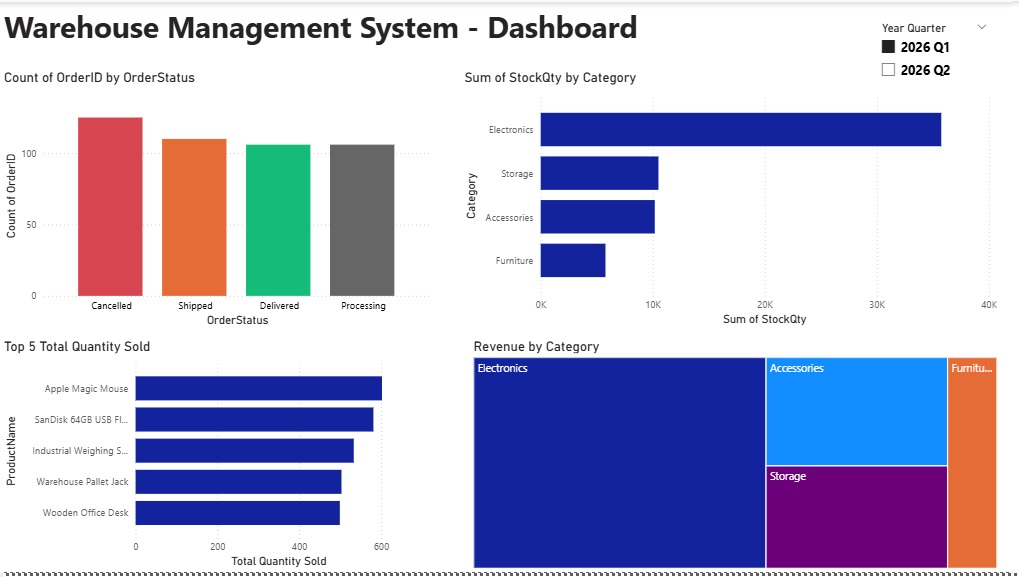

Layout of this report page (visuals, bound fields, positions):
{"tool":"powerbi","page":{"name":"Page 2","canvas":[1280,720],"ordinal":1},"visuals":[{"type":"columnChart","fields":{"Category":["Orders.OrderStatus"],"Y":["CountNonNull(Orders.OrderID)"]},"box":[0,85.8,548.9,328.7],"z":0},{"type":"textbox","box":[0,0,1164.6,69.6],"z":1000},{"type":"clusteredBarChart","title":"Top 5 Total Quantity Sold","fields":{"Category":["Products.ProductName"],"Y":["Inventory.Total Quantity Sold"]},"box":[0,425.2,548,294.8],"z":2000},{"type":"treemap","fields":{"Values":["Inventory.Revenue"],"Group":["Products.Category"]},"box":[593.3,424.6,671,295.7],"z":3000},{"type":"barChart","fields":{"Category":["Products.Category"],"Y":["Sum(Inventory.StockQty)"]},"box":[581.9,85.3,682.3,327.9],"z":4000},{"type":"slicer","fields":{"Values":["Orders.Year Quarter"]},"box":[1102,18.9,158.5,86.8],"z":5000}]}

Visuals, with their boxes in screenshot pixels (x1, y1, x2, y2), scaled from the page's 1280x720 canvas onto the 1019x577 screenshot:
columnChart - Orders.OrderStatus x CountNonNull(Orders.OrderID): rect(0, 69, 437, 332)
textbox: rect(0, 0, 927, 56)
"Top 5 Total Quantity Sold" clusteredBarChart: rect(0, 341, 436, 576)
treemap - Inventory.Revenue x Products.Category: rect(472, 340, 1007, 576)
barChart - Products.Category x Sum(Inventory.StockQty): rect(463, 68, 1006, 331)
slicer - Orders.Year Quarter: rect(877, 15, 1003, 85)
